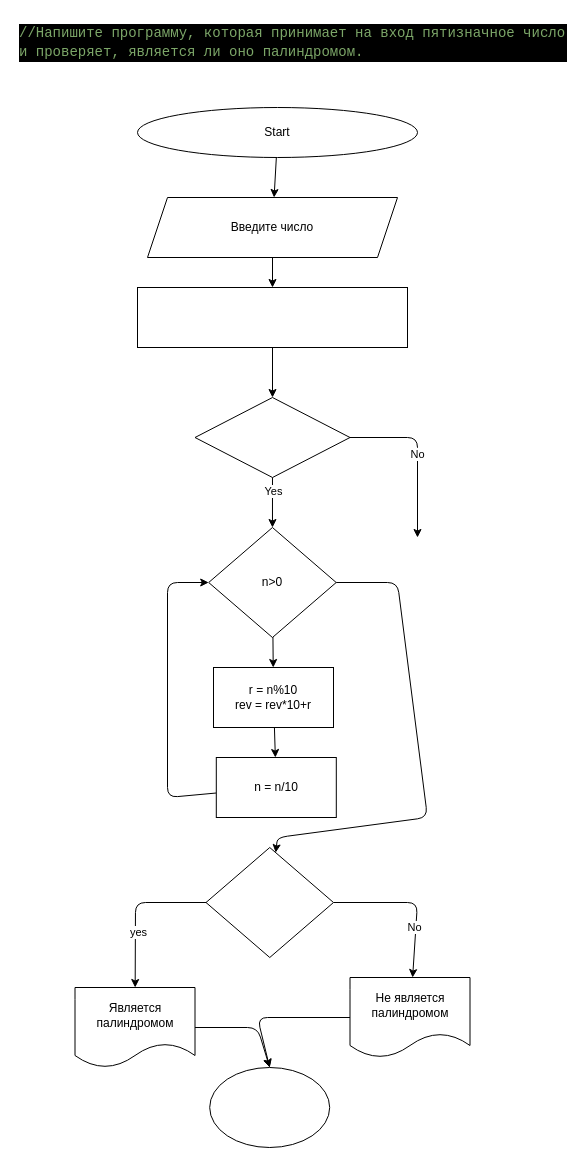
Image size: 584x1165. Some labels were removed from this diagram. The centre of each missing label's shape, as x and y in pixels:
"End" goes at (x=269, y=1107).
"n num =n rev =0" goes at (x=272, y=317).
"n>=10000 но n<=99999" goes at (x=272, y=437).
"num==rev" goes at (x=269, y=902).
